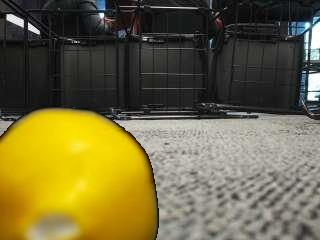lemon: (0, 107, 158, 240)
